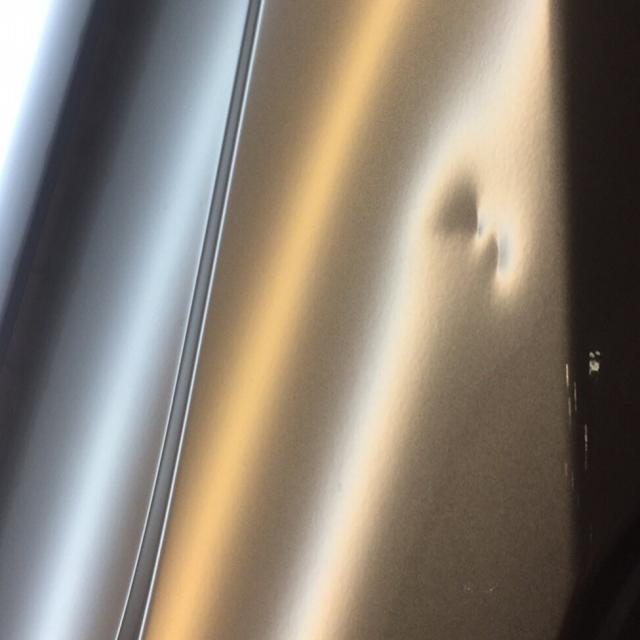dents: (425, 165, 527, 304)
